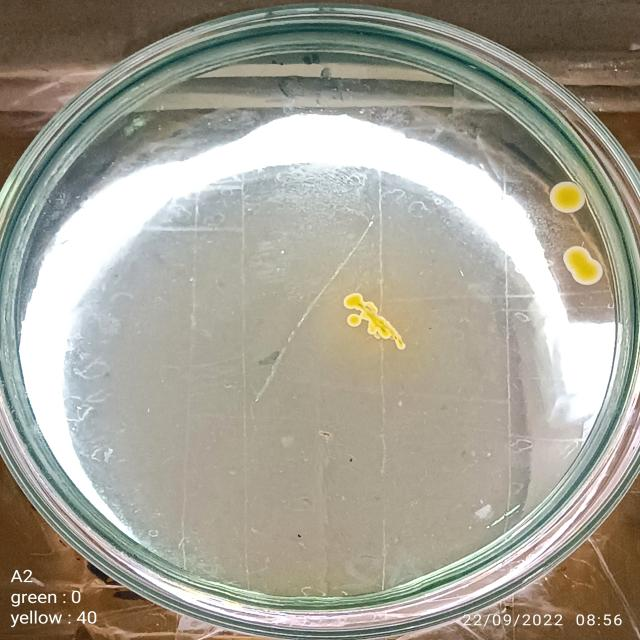yellow: (339, 292, 409, 352), (564, 246, 602, 287), (550, 180, 586, 214), (346, 314, 362, 327)
